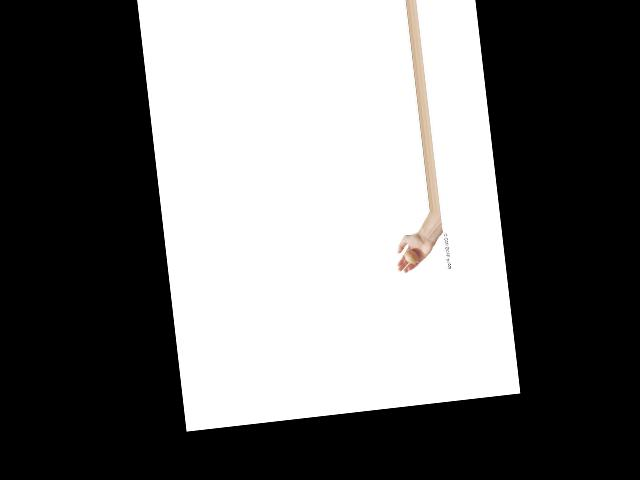egg: (404, 250, 419, 265)
